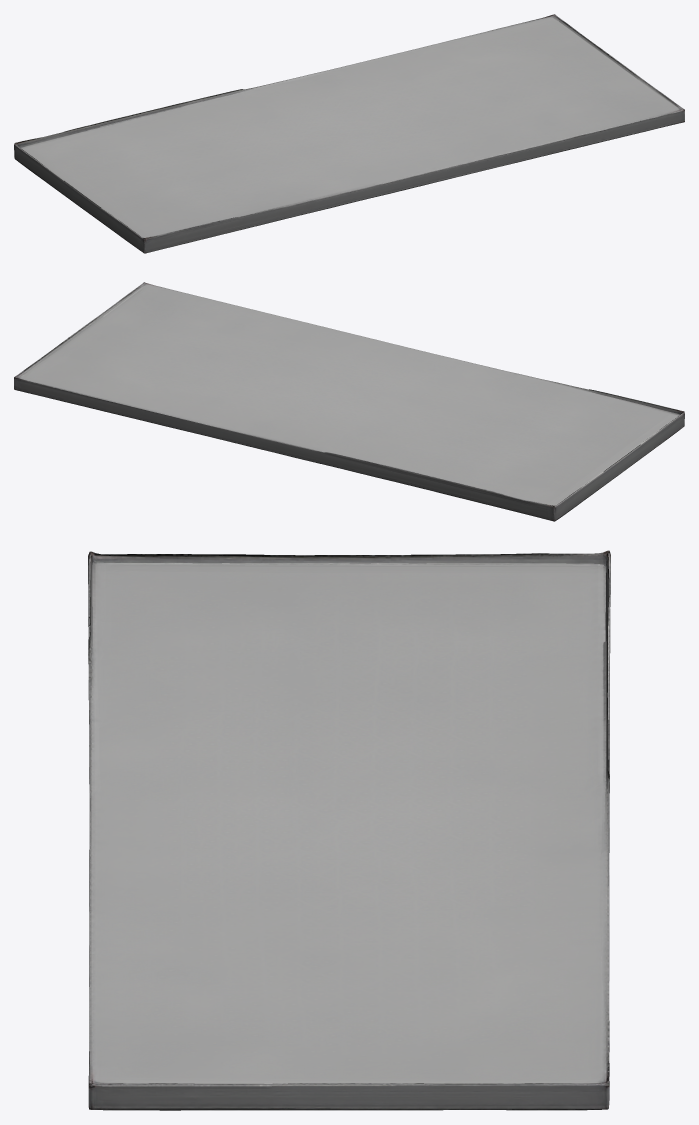
3 views of the same model, one above another, from view 1: azimuth 30°, elevation 25°; view 2: azimuth 150°, elevation 25°; view 3: azimuth 270°, elevation 25° (orthographic). The views are drawn at different scales.
Visible parts, largest first — view 1: world; view 2: world; view 3: world.
Part boxes in pixels (x1,y1,x2,y2): world: [14, 14, 684, 253]; world: [14, 282, 684, 521]; world: [88, 550, 610, 1110].
Bounding box in the file's own units: 1 × 0.0286 × 0.4185.
Materials: 1 (1 with a texture image).
